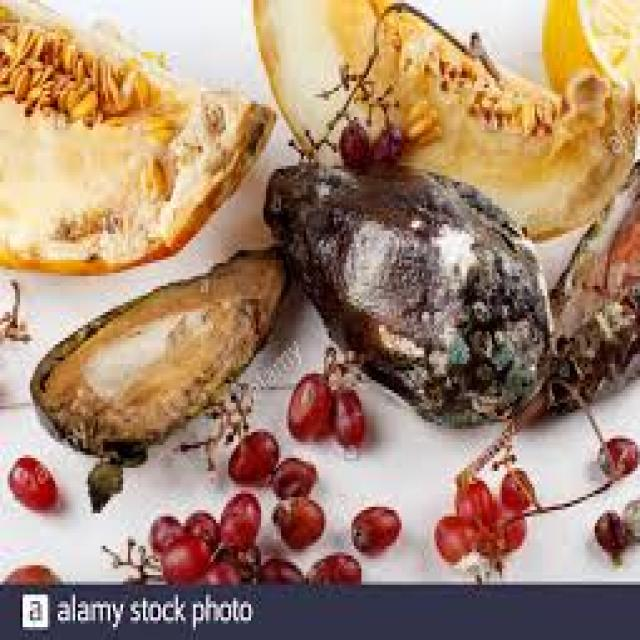organic waste: (251, 0, 637, 237), (256, 156, 552, 419), (0, 0, 271, 270), (454, 156, 638, 484), (28, 244, 291, 452), (537, 0, 638, 94), (284, 370, 328, 442), (271, 491, 321, 549), (5, 452, 55, 506), (226, 429, 273, 484), (216, 491, 258, 552), (479, 497, 522, 556), (349, 504, 396, 552), (160, 530, 210, 575), (329, 383, 364, 445), (432, 513, 477, 559), (452, 478, 492, 526), (366, 124, 402, 176), (269, 458, 316, 497), (595, 436, 637, 474), (306, 549, 359, 578), (500, 465, 532, 510), (592, 507, 622, 552), (339, 117, 366, 166), (251, 552, 301, 578), (186, 507, 218, 546), (194, 556, 244, 578), (148, 513, 178, 546), (0, 562, 60, 578)
